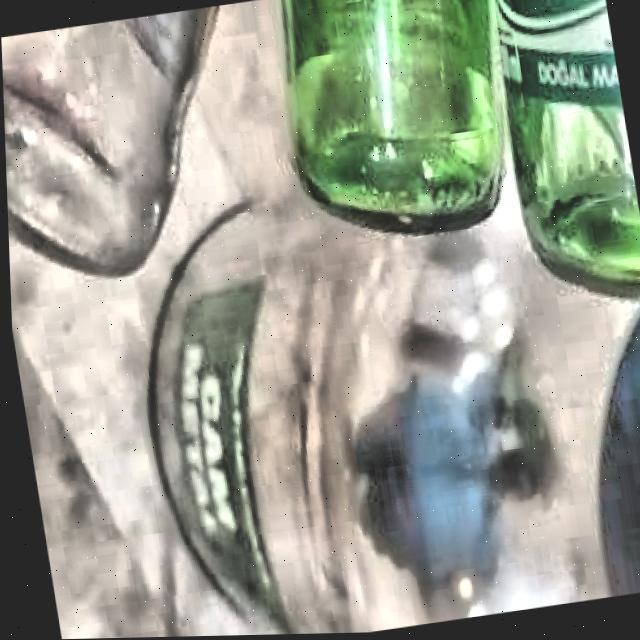glass: (280, 0, 640, 301)
